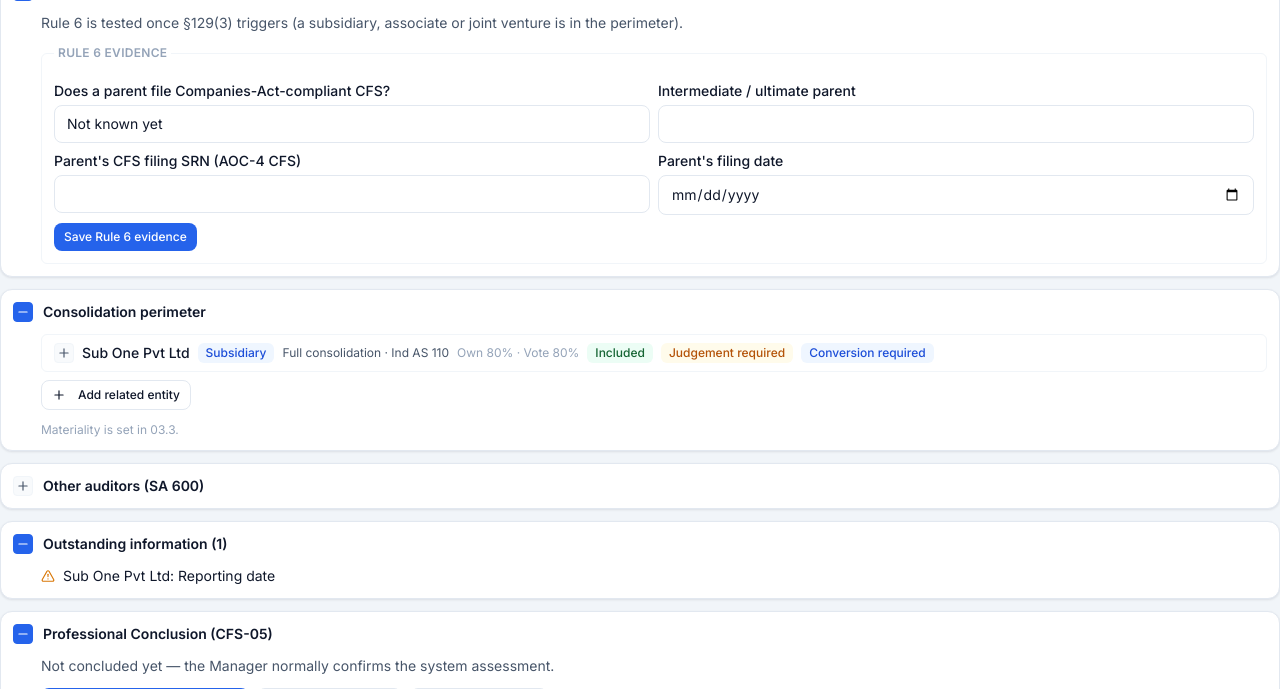
02.6 Consolidation workspace (spec §4) › files evidence and shows the authority per relationship (§5)
(page scrolled)
Click the button "Sub One Pvt Ltd" at (654, 353), box top-left (54, 343), bottom-right (1254, 363)
(page scrolled)
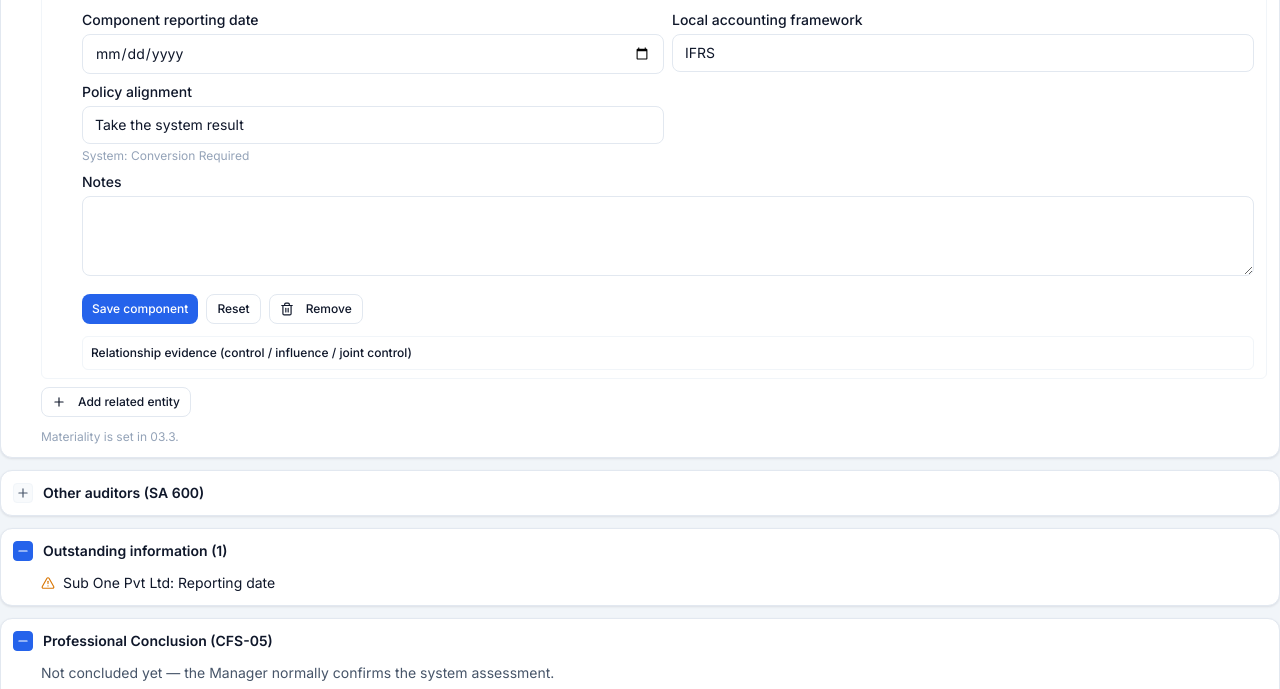
Check: the text "Relationship evidence (control / influence / joint control)" is shown, box top-left (91, 345), bottom-right (412, 360)
